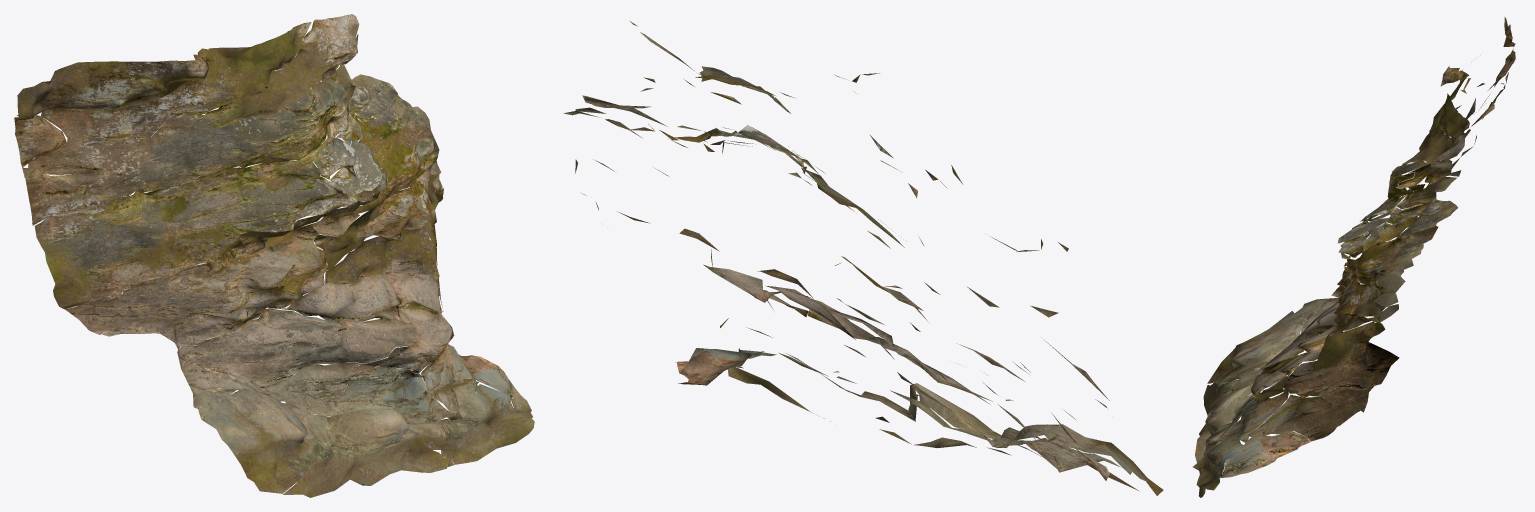
Rendered from rock_face_02.glb.
3 views of the same model, side by side, from view 1: azimuth 30°, elevation 25°; view 2: azimuth 150°, elevation 25°; view 3: azimuth 270°, elevation 25° (orthographic). The views are drawn at different scales.
Parts seen in each view (by area): view 1: rock_face_02; view 2: rock_face_02; view 3: rock_face_02.
Boxes of the visible parts, bbox=[...] form: rock_face_02: bbox=[14, 14, 534, 497]; rock_face_02: bbox=[563, 21, 1163, 495]; rock_face_02: bbox=[1193, 17, 1515, 497].
Size of the model in its own units: 2.71 by 2.48 by 2.14.
1 material, 1 textured.
